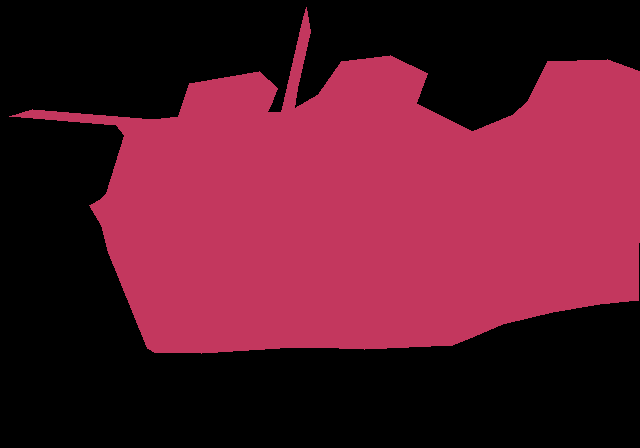Airplane: (9, 7, 640, 354)
